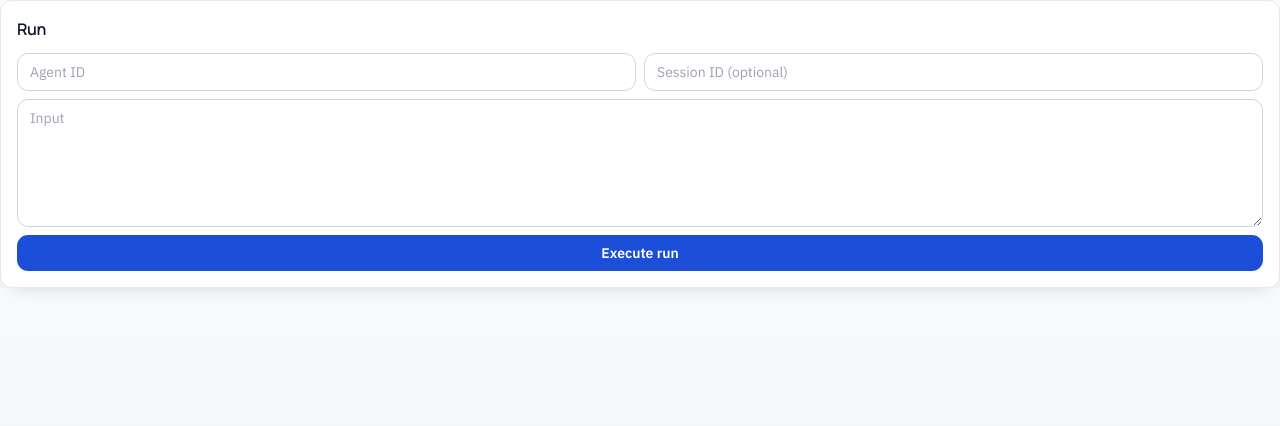
Scenario: workflow panels › shows validation error when run fields are missing
The width and height of the screenshot is (1280, 426).
What coordinates should you click on to do the following:
click the button "Execute run"
I would click on:
 (640, 253)
Its box is [17,235,1263,271].
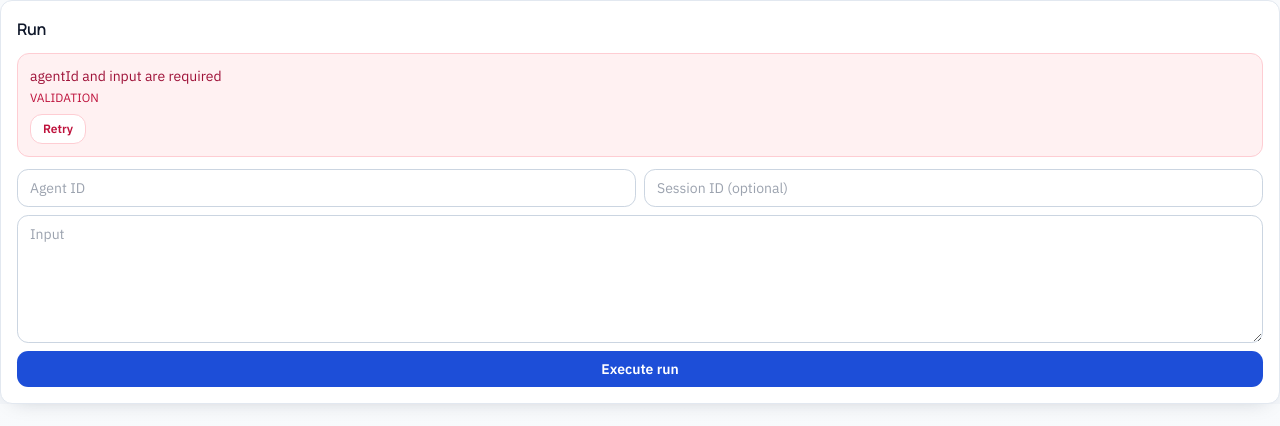
Now the text "agentId and input are required" is shown, box [30,67,222,85]
